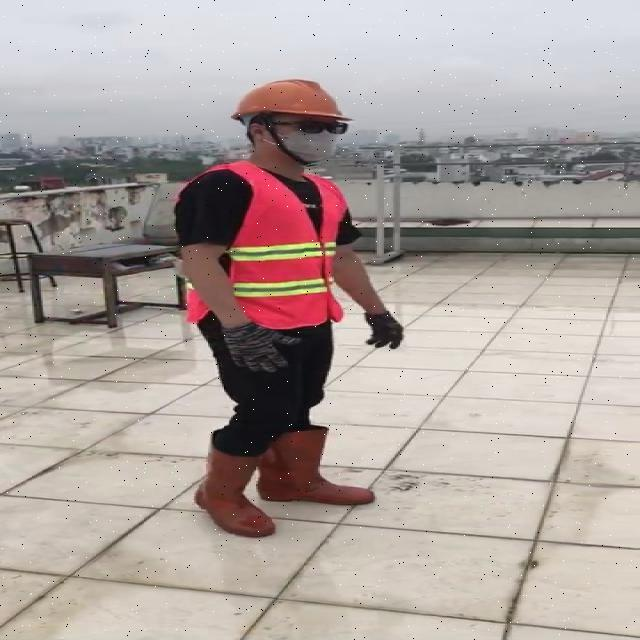Hard_hat: (225, 73, 358, 134)
Vest: (220, 164, 334, 325)
